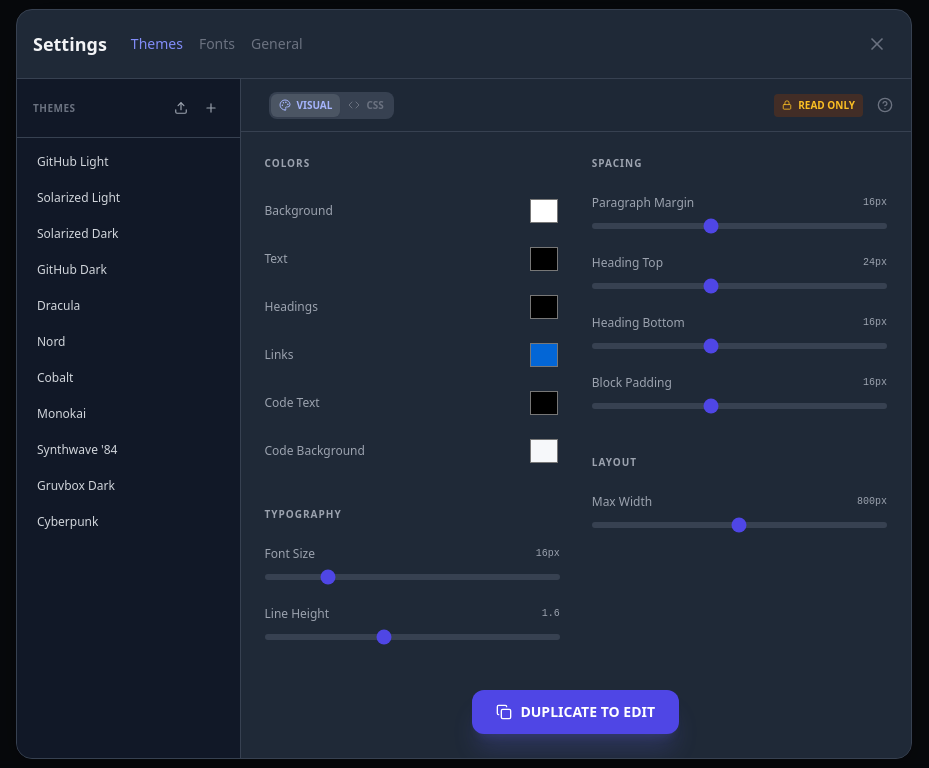
Test: SettingsModal › can switch to fonts tab and shows font list
Click the button "Fonts" at [217, 44], box 199,34 -> 235,54
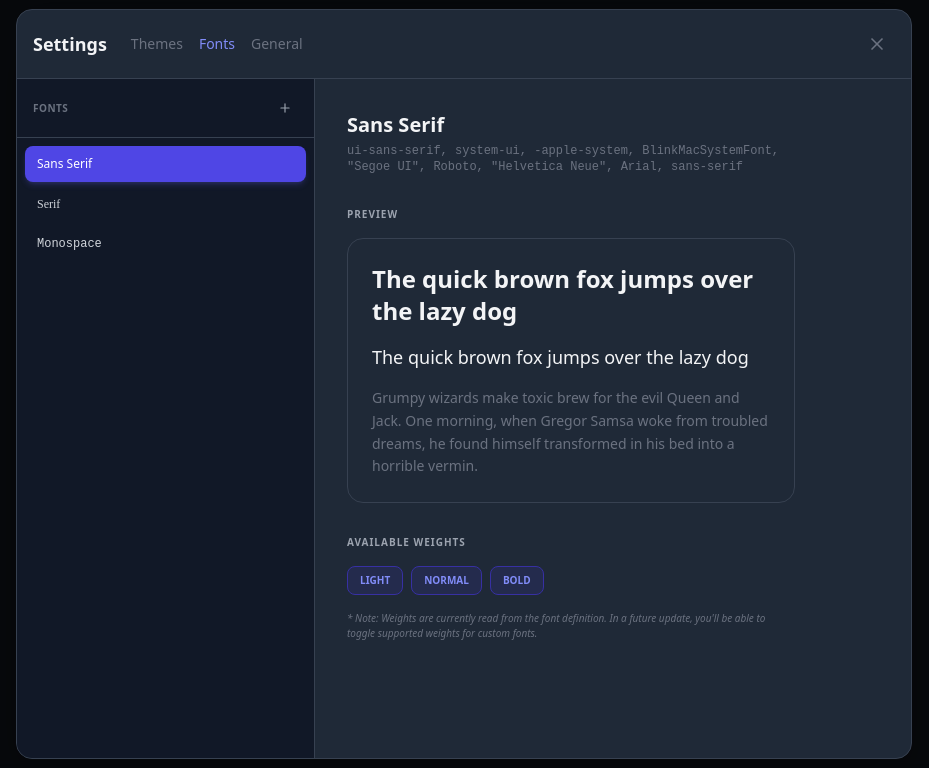
Result: the text "Sans Serif" is shown at 37,156 -> 100,172
Result: the text "Serif" is shown at 37,197 -> 60,211
